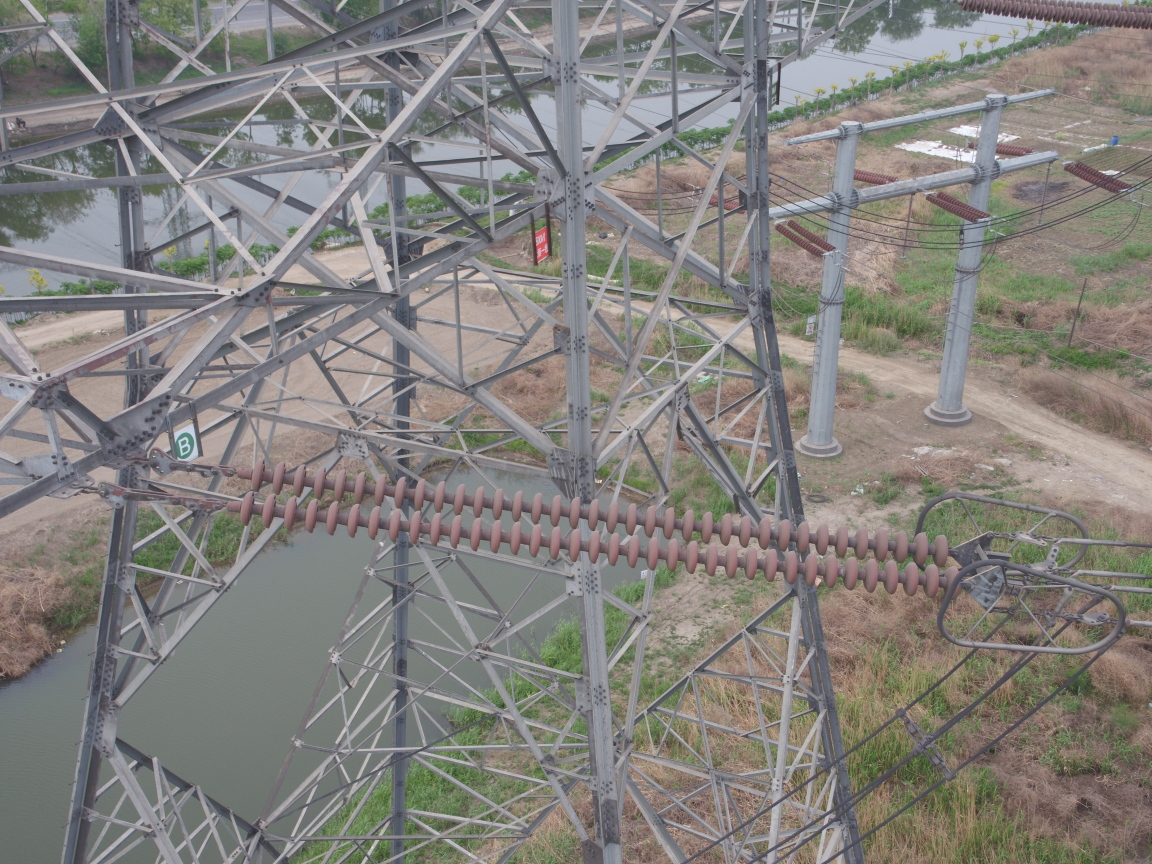insulator: (182, 454, 985, 601), (947, 1, 1152, 33)
